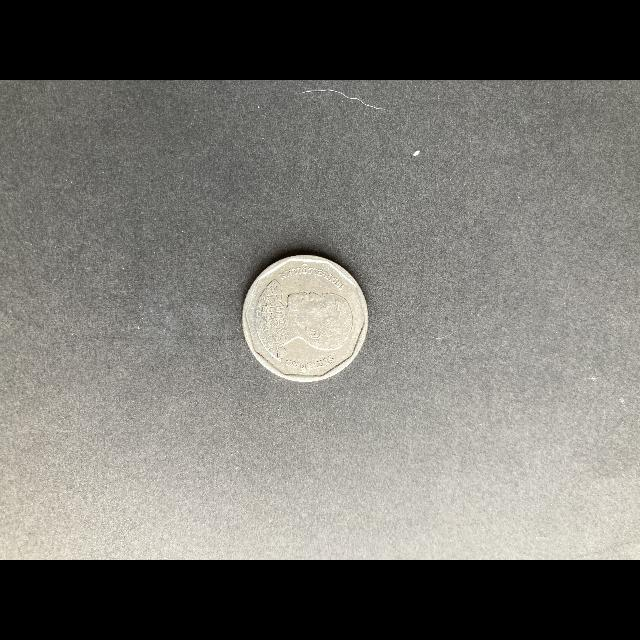5 Bath: (240, 250, 373, 385)
